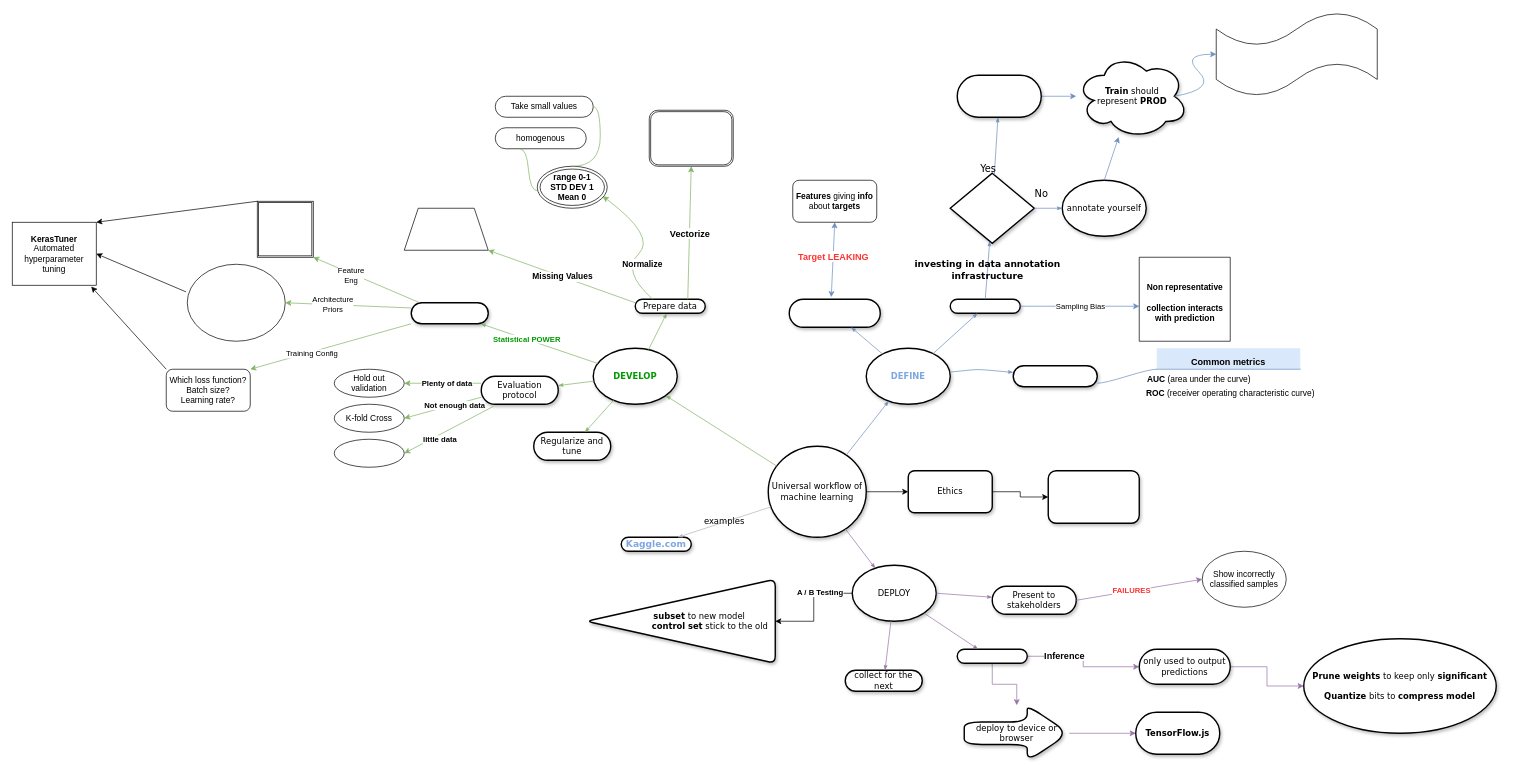
Some shapes in this 1513 by 779 pixel diagram are drawn without their labels. Each missing label, with the centre of its shape:
"beat the baseline" belongs at [450,314].
"Collect data" belongs at [985,306].
"Concept drift when data changes over time" belongs at [1296,54].
"Densely connected? covnet? RNN? Transformer?" belongs at [236,302].
"filter uninformative features develop new" belongs at [285,229].
"Iterated K-fold" belongs at [369,453].
"Mean & Median to fill" belongs at [446,229].
"Measure success" belongs at [1055,377].
"Models carry more weight on decisions than people; BE DELIBERATE" belongs at [1094,497].
"outsource annotation?" belongs at [992,208].
"Ship it" belongs at [992,656].
"Third party services like Mechanical Turk" belongs at [999,96].
"Turning data into tensors - numerical representation" belongs at [691,138].
"Understand the problem" belongs at [835,313].
